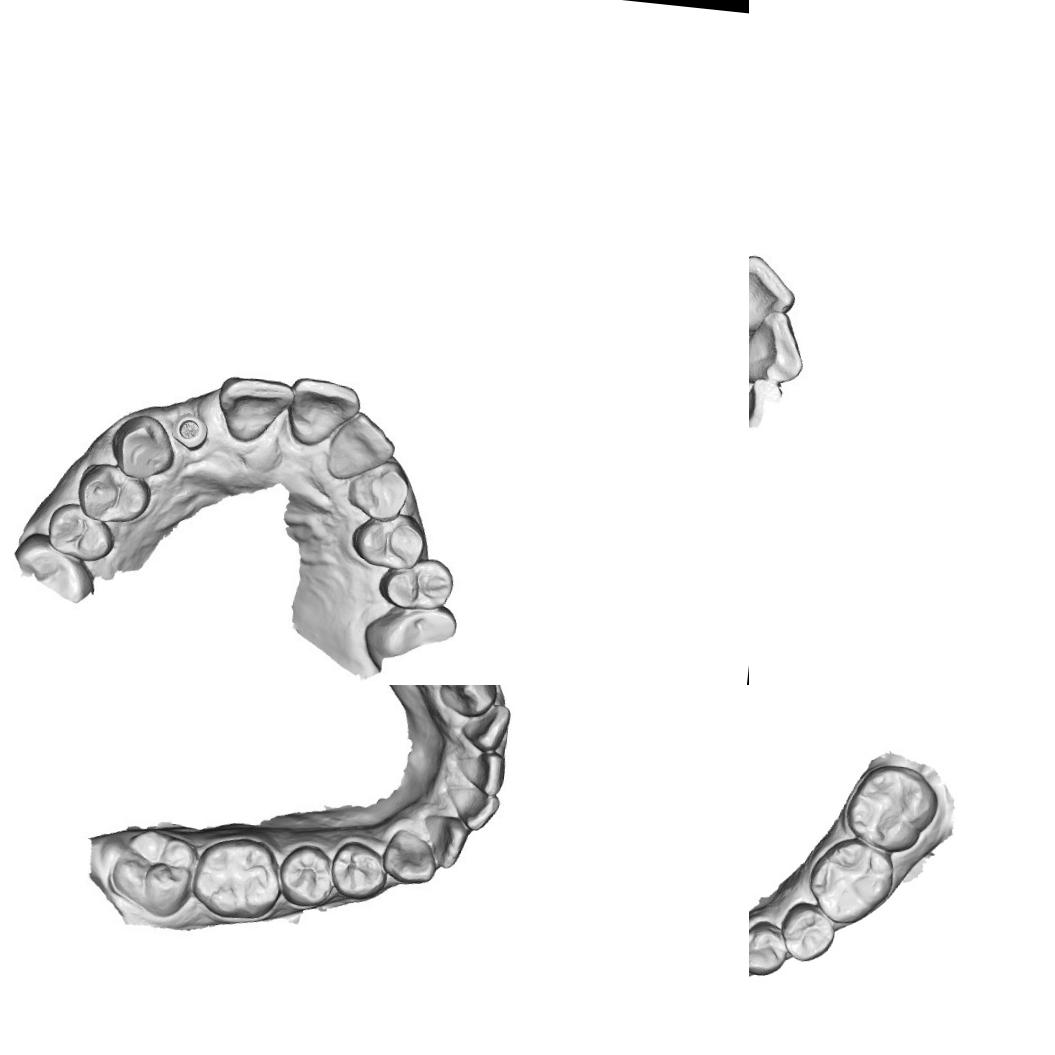canine: (106, 413, 180, 488), (378, 825, 440, 892), (350, 465, 407, 516), (436, 685, 502, 722)
implant: (167, 402, 216, 460)
incisor: (321, 406, 401, 485), (217, 372, 294, 446), (288, 376, 358, 448), (749, 253, 798, 346), (749, 312, 805, 390), (445, 778, 508, 836), (418, 812, 478, 872), (455, 698, 516, 754), (457, 748, 513, 798)
molar: (842, 760, 943, 858), (806, 832, 898, 928), (109, 822, 202, 911), (188, 834, 288, 914)
premolar: (344, 512, 430, 574), (40, 499, 118, 566), (376, 553, 456, 616), (78, 466, 148, 528), (780, 901, 837, 965), (280, 843, 332, 904), (332, 838, 384, 896), (749, 921, 789, 978)
